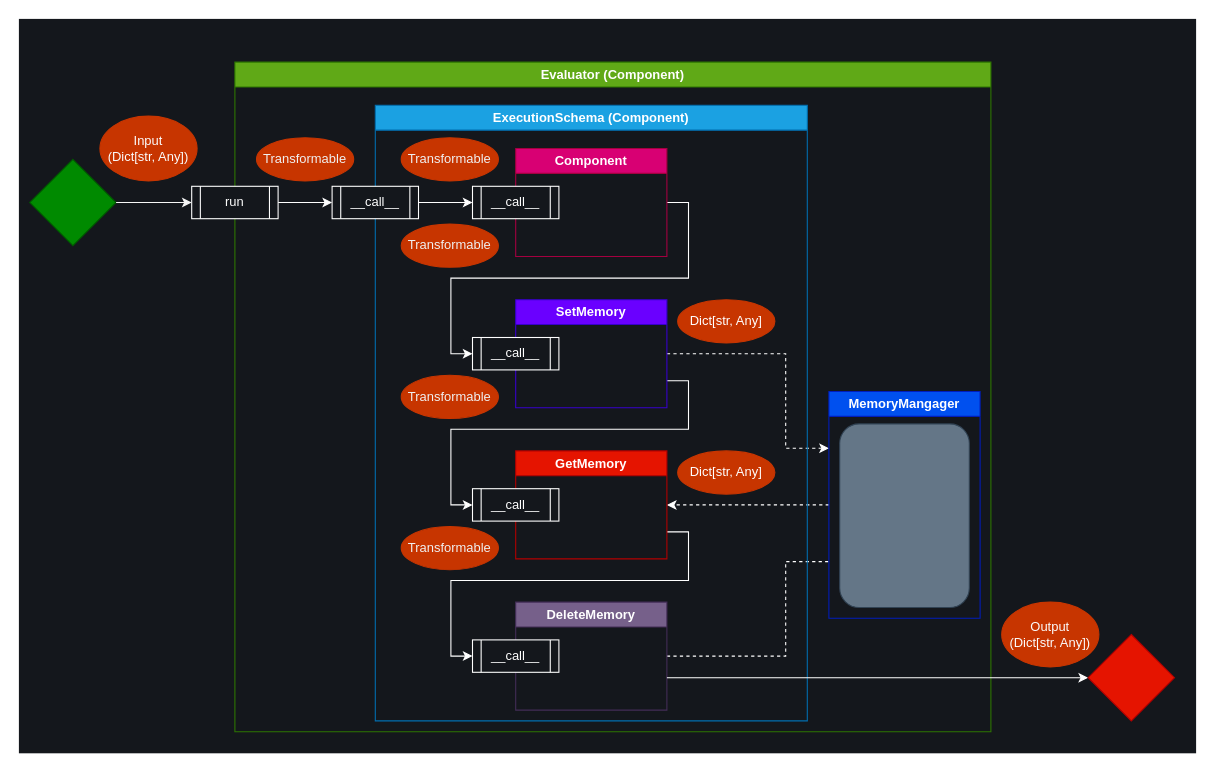
The diagram is 1214 pixels wide and 771 high, and some of its shapes have lost their labels. The shapes that lost their labels are listed below. From the top down, each one's centre as x and y in pixels, then its label:
At pixel 72 202: "Start".
At pixel 904 515: "Memory".
At pixel 1130 677: "End".
